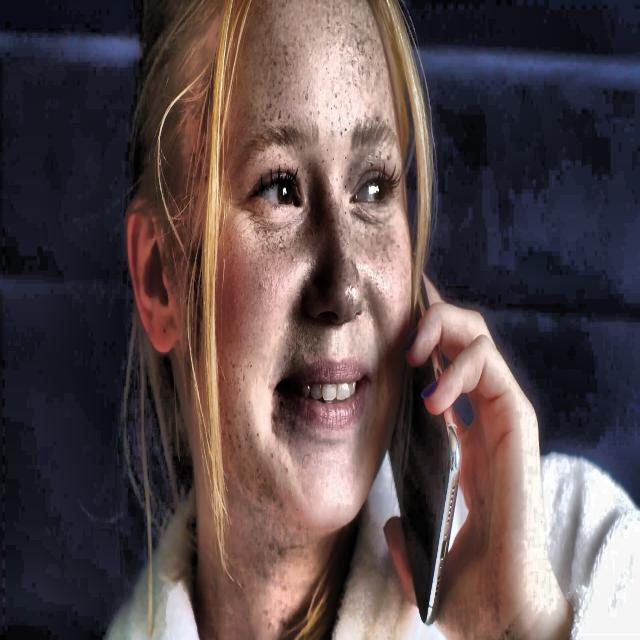Phone: (386, 248, 464, 632)
